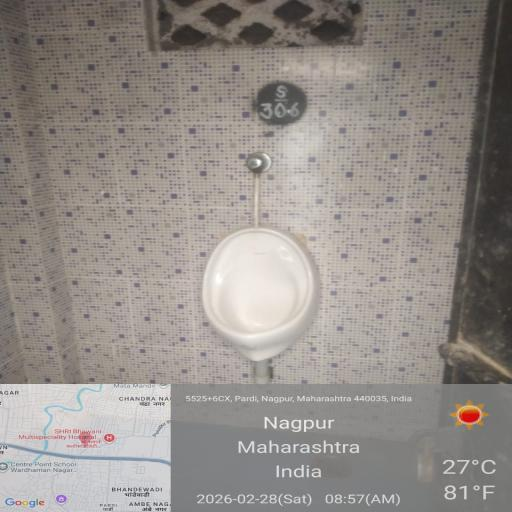clean_floor: (5, 5, 450, 221), (0, 226, 194, 374), (326, 237, 454, 384)
clean_urinal: (204, 234, 317, 354)
partial_dirty_floor: (468, 14, 512, 385)
